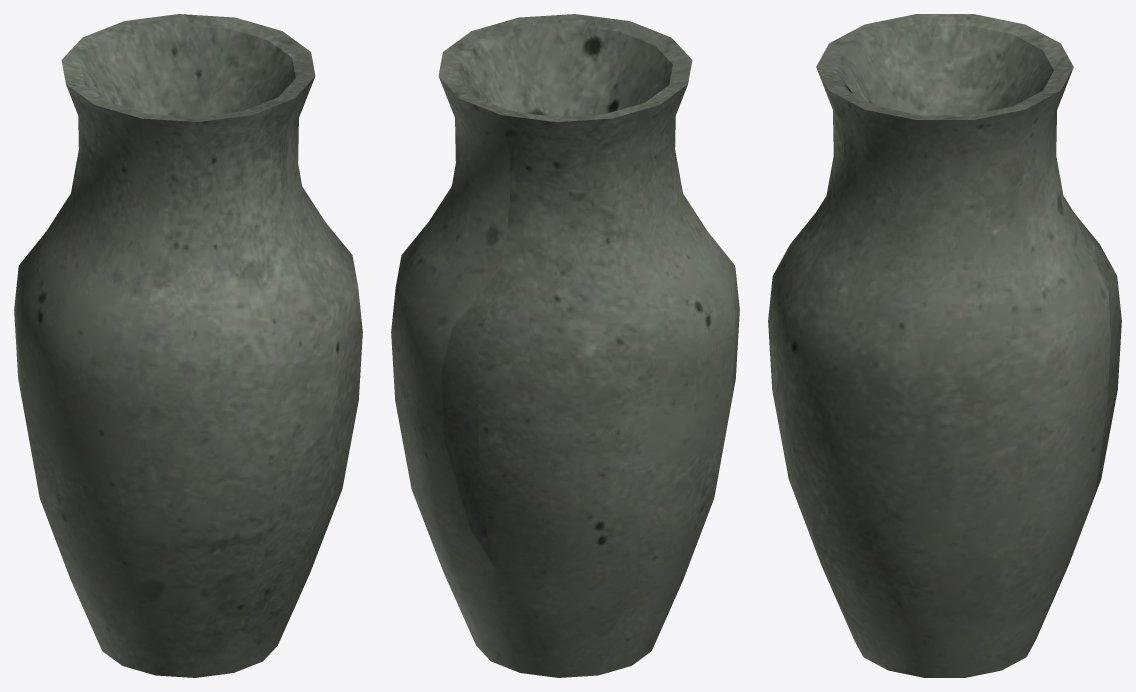
The model's file is Vase_06.glb.
3 renders of one model, left to right at view 1: azimuth 30°, elevation 25°; view 2: azimuth 150°, elevation 25°; view 3: azimuth 270°, elevation 25°, orthographic.
Parts seen in each view (by area): view 1: SM_Vase_06; view 2: SM_Vase_06; view 3: SM_Vase_06.
Part boxes in pixels (<box>): SM_Vase_06: <box>14,14,362,677</box>; SM_Vase_06: <box>391,14,739,677</box>; SM_Vase_06: <box>768,14,1121,677</box>.
Size of the model in its own units: 0.1206 by 0.2214 by 0.1238.
Materials: 1 (1 with a texture image).
